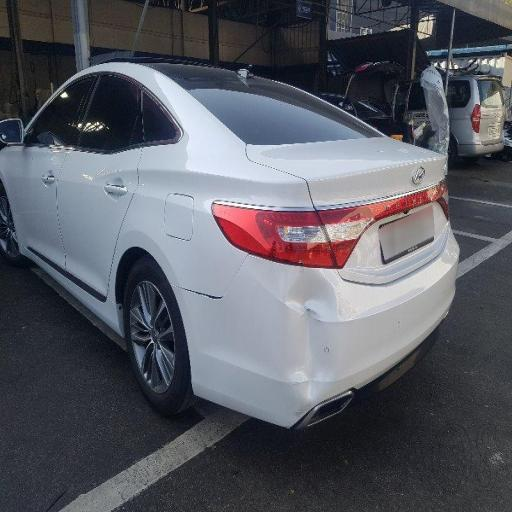broken: (252, 228, 266, 231)
dent: (242, 204, 374, 421)
scratch: (44, 200, 227, 352)
